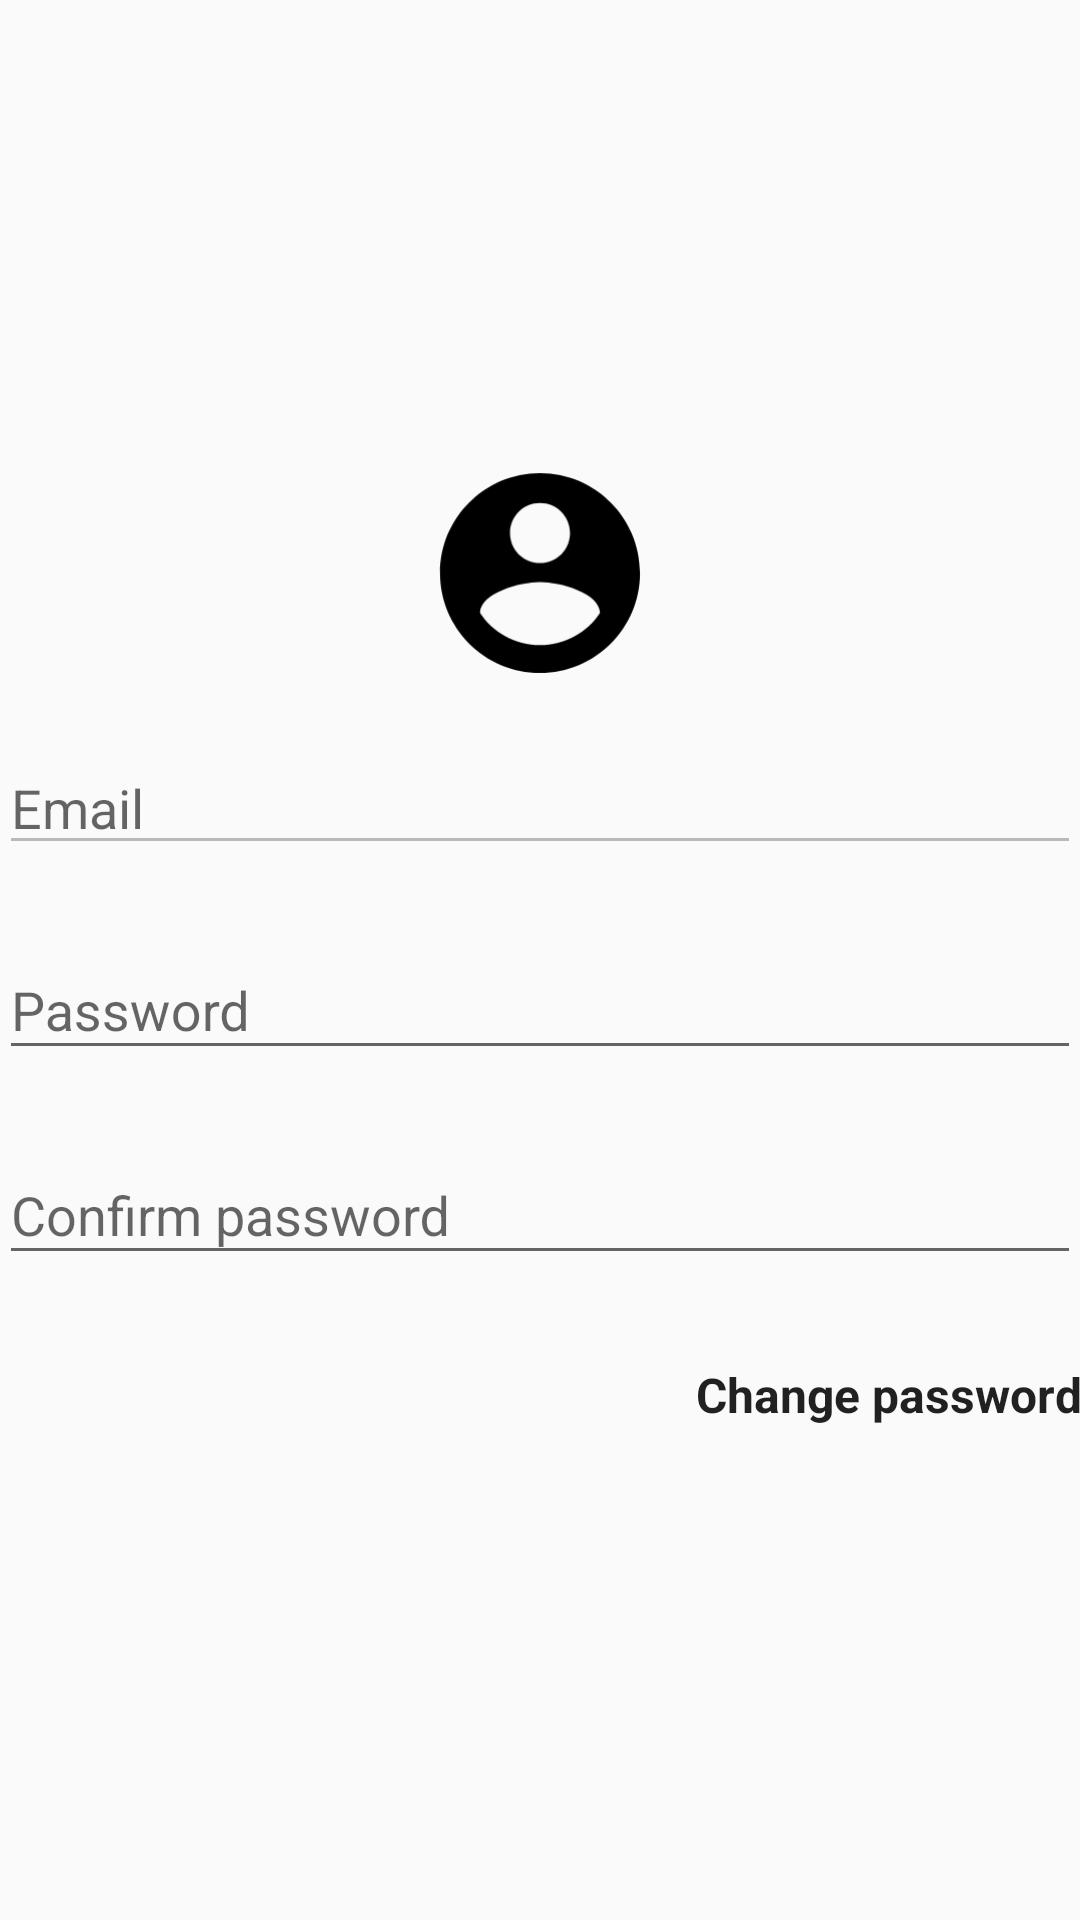

Named icons in this screenshot (1080 x 1920) and their centers, [x,y]:
account circle: [539,573]
